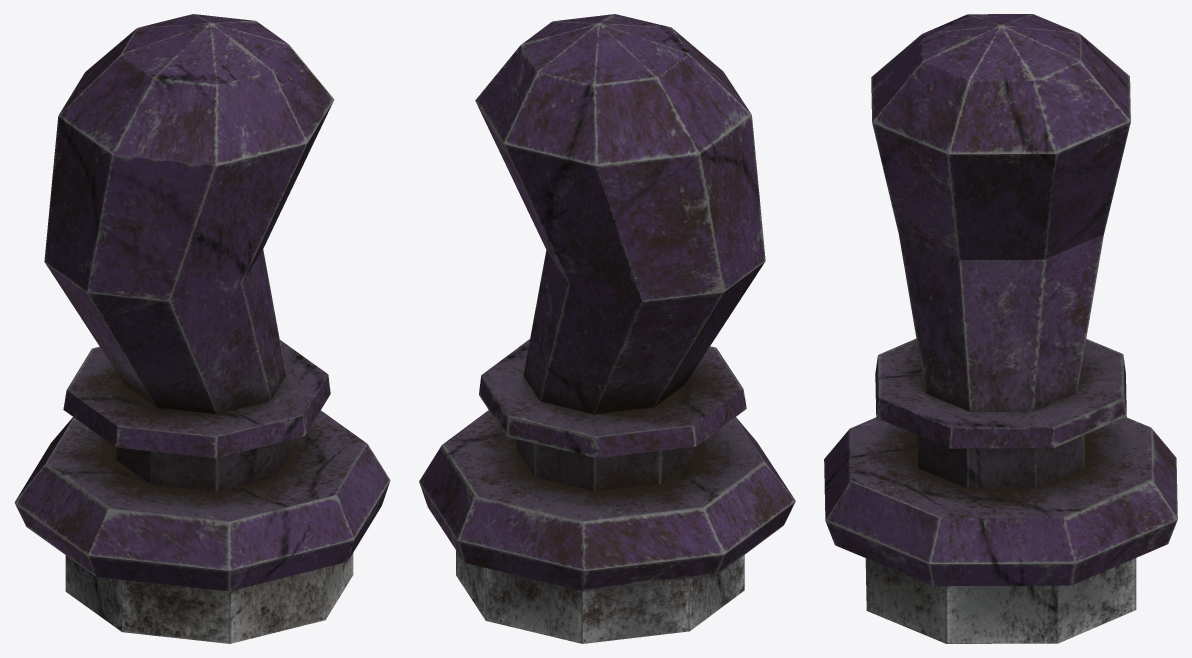
Rendered from Tamper.glb.
The picture shows the model from 3 angles, left to right: view 1: azimuth 30°, elevation 25°; view 2: azimuth 150°, elevation 25°; view 3: azimuth 270°, elevation 25°; orthographic projection.
Parts seen in each view (by area): view 1: Tamper; view 2: Tamper; view 3: Tamper.
Boxes of the visible parts, bbox=[...] form: Tamper: bbox=[14, 14, 390, 643]; Tamper: bbox=[419, 14, 795, 643]; Tamper: bbox=[824, 14, 1177, 643].
Size of the model in its own units: 0.07 by 0.1227 by 0.07.
1 material, 1 textured.
